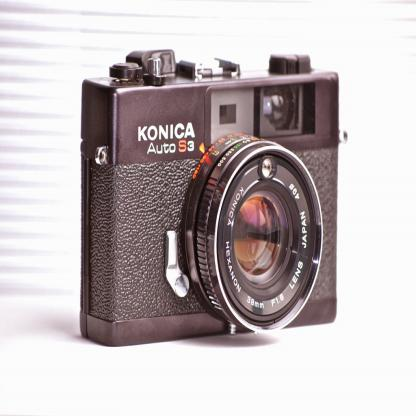Camera: (80, 47, 349, 350)
